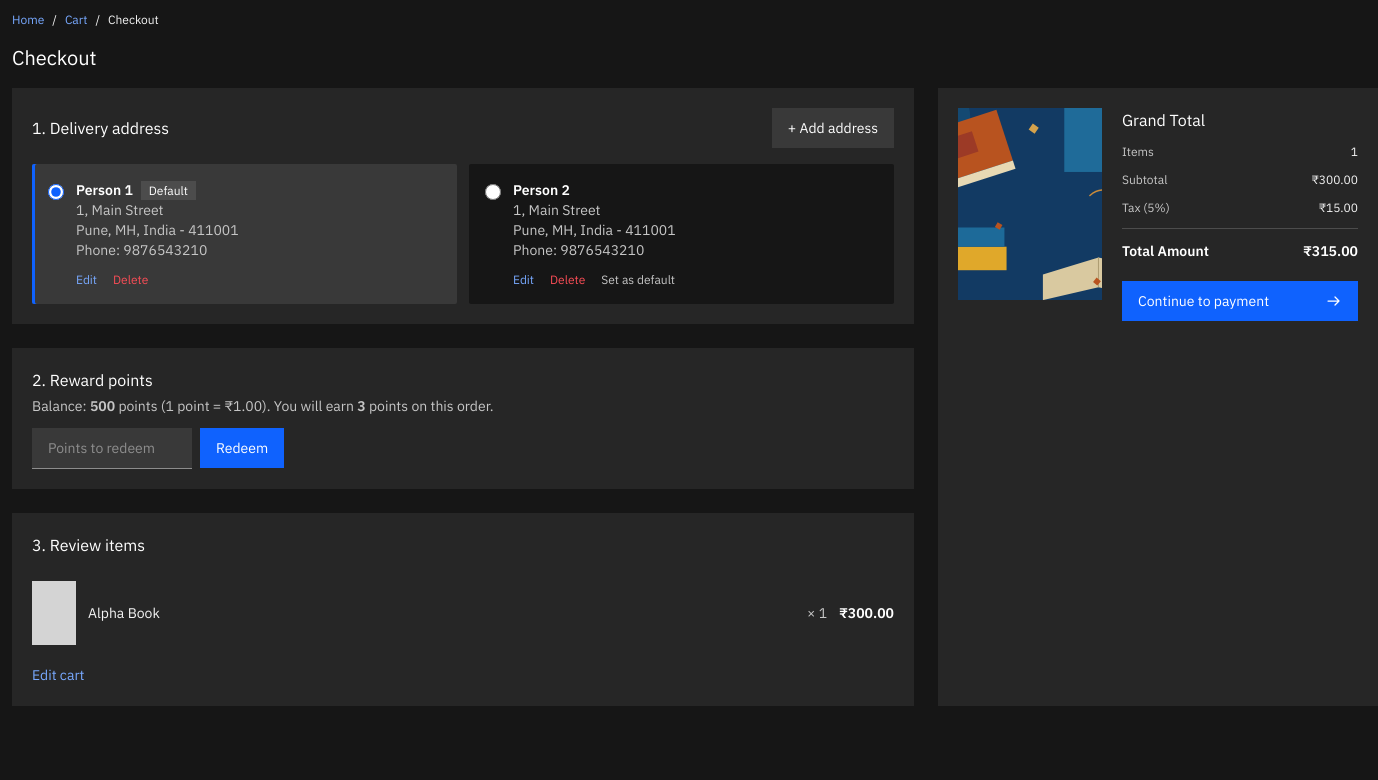
CheckoutPage › shows an error when redeeming more points than available
The image size is (1378, 780).
Check: the text "Person 1" is shown, box [76,181,133,199]
Type "99999" into the number field labelled "Points to redeem" at (112, 448), box [32,428,192,469]
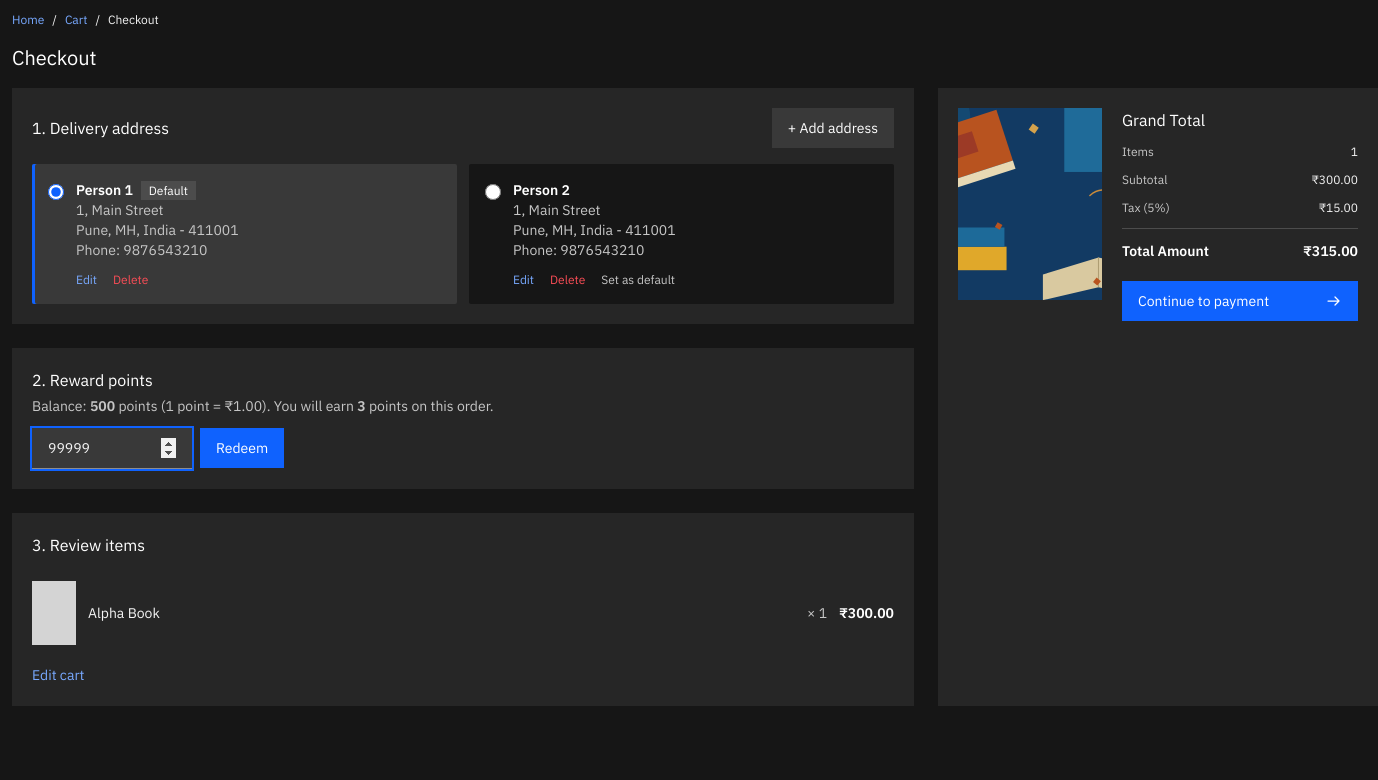
Click the button "Redeem" at (242, 448), box [200,428,284,468]
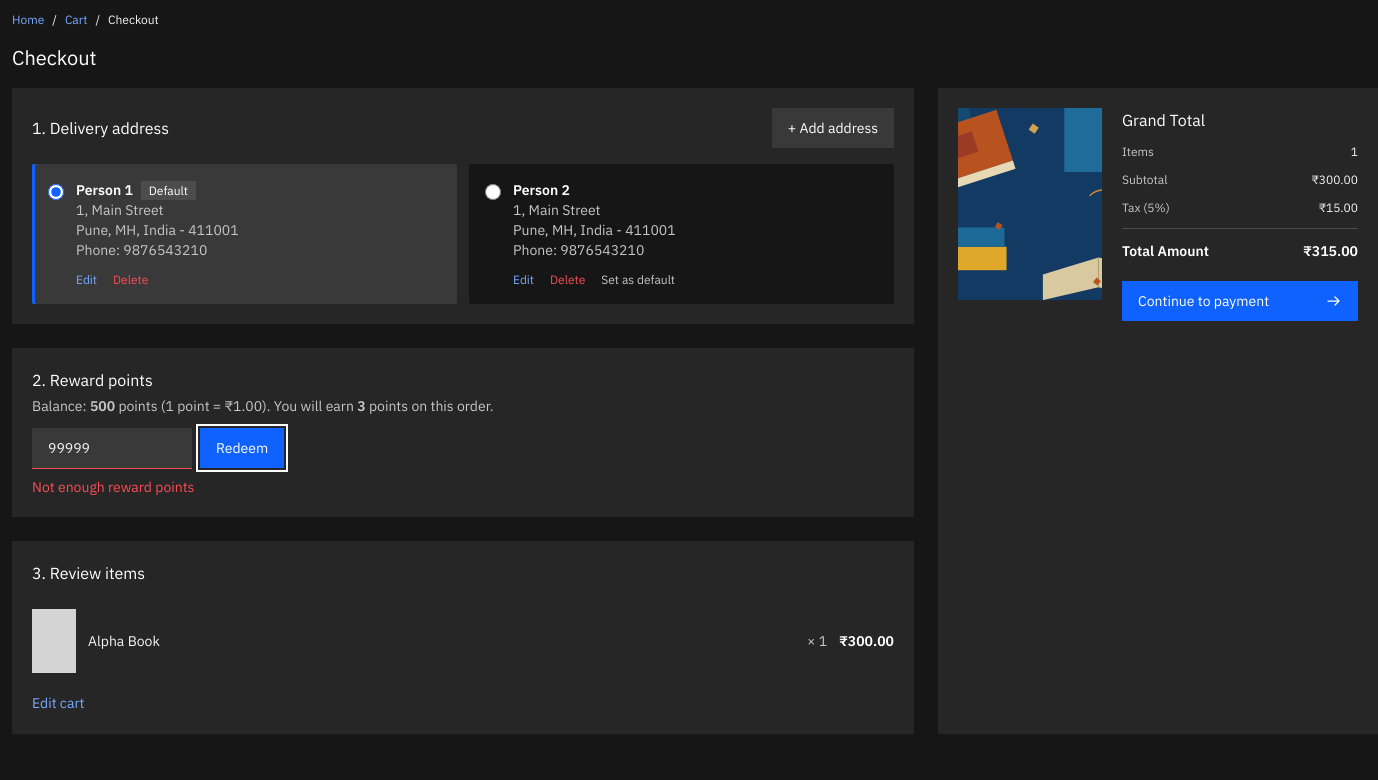
Check: the message reads "Not enough reward points", box [32,478,194,496]
